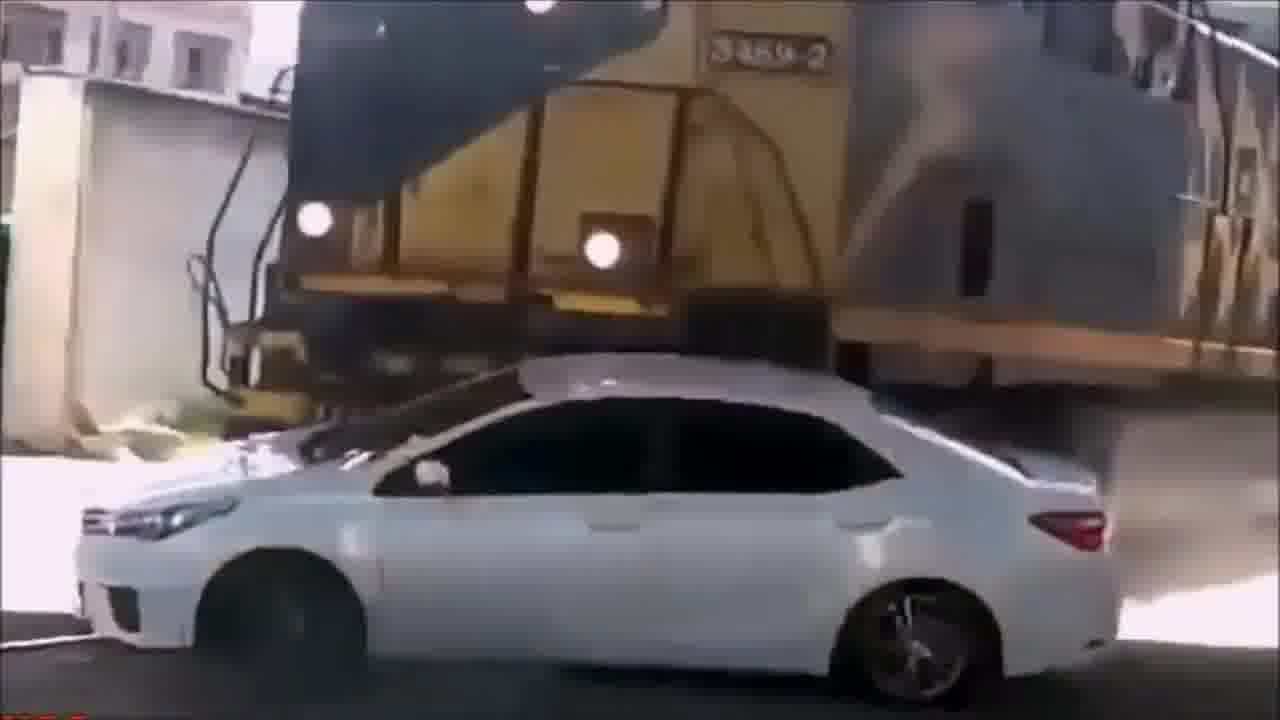crossing railway track: (59, 307, 1180, 679)
